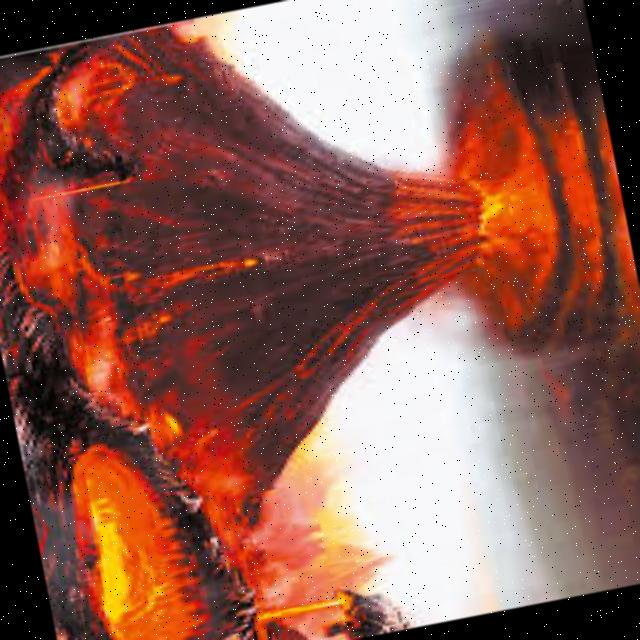explosion: (16, 0, 604, 584), (0, 265, 284, 640)
